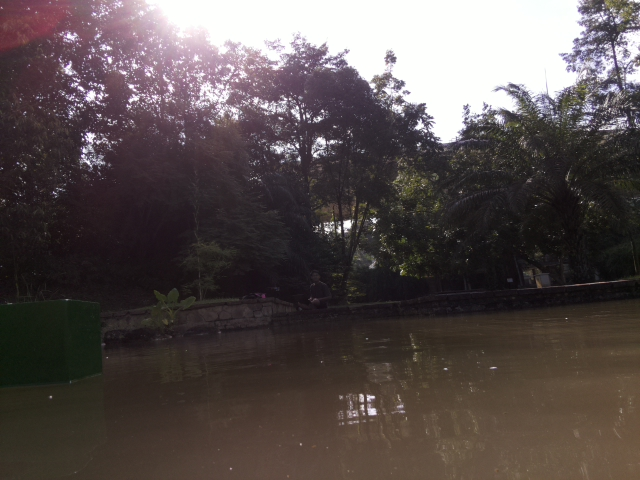obstacle: (1, 295, 106, 389)
